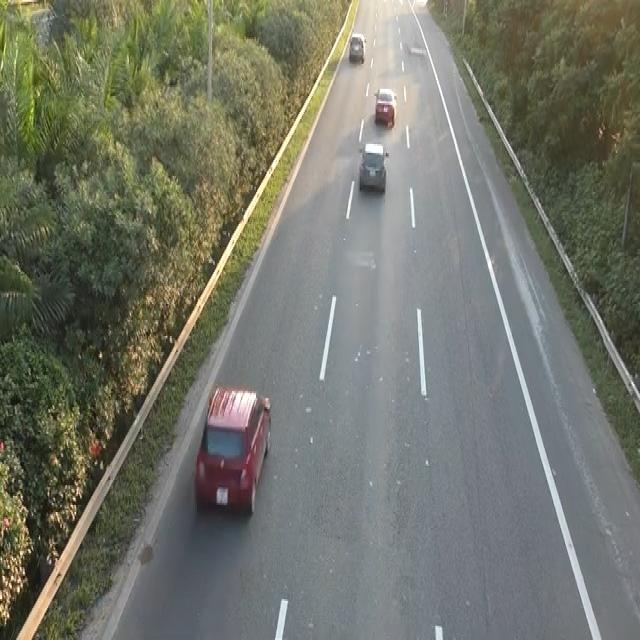bus: (193, 380, 273, 518), (357, 138, 389, 194), (373, 84, 397, 126)
